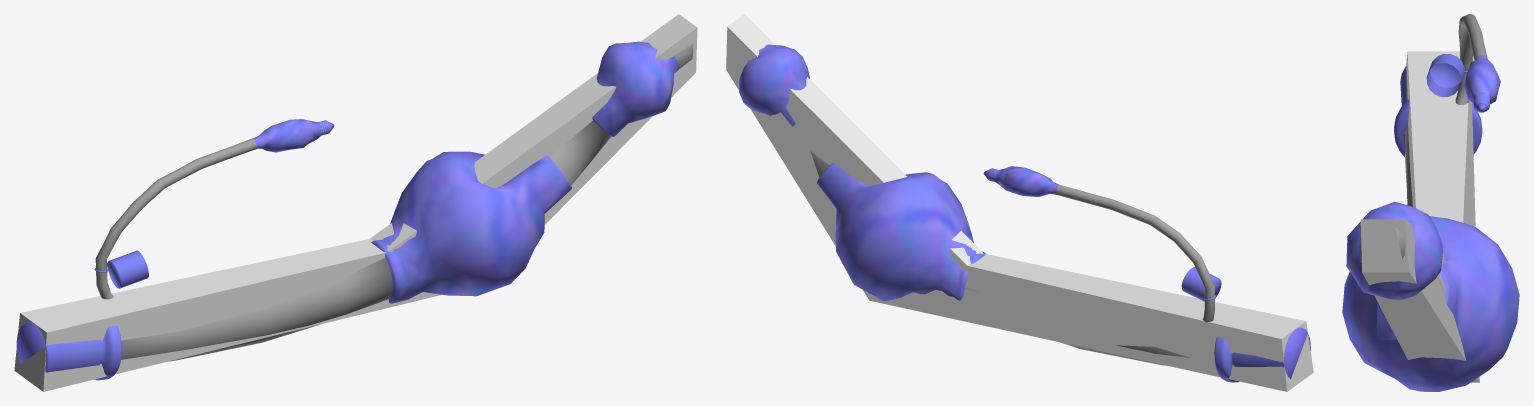
Rendered from ACE_Medical_KingLT.fbx.
3 renders of one model, left to right at view 1: azimuth 30°, elevation 25°; view 2: azimuth 150°, elevation 25°; view 3: azimuth 270°, elevation 25°, orthographic. The views are drawn at different scales.
Visible parts, largest first — view 1: KingLT_LOD0, UTM_KingLT; view 2: UTM_KingLT, KingLT_LOD0; view 3: KingLT_LOD0, UTM_KingLT.
Boxes of the visible parts, left/top/right/bottom form: KingLT_LOD0: left=16, top=41, right=693, bottom=380; UTM_KingLT: left=14, top=14, right=697, bottom=391; UTM_KingLT: left=726, top=14, right=1313, bottom=391; KingLT_LOD0: left=739, top=44, right=1310, bottom=382; KingLT_LOD0: left=1342, top=14, right=1519, bottom=391; UTM_KingLT: left=1360, top=51, right=1479, bottom=382.
Size of what is drawn, in the model's own units: 22.09 by 7.9 by 4.51.
2 materials, 2 textured.
